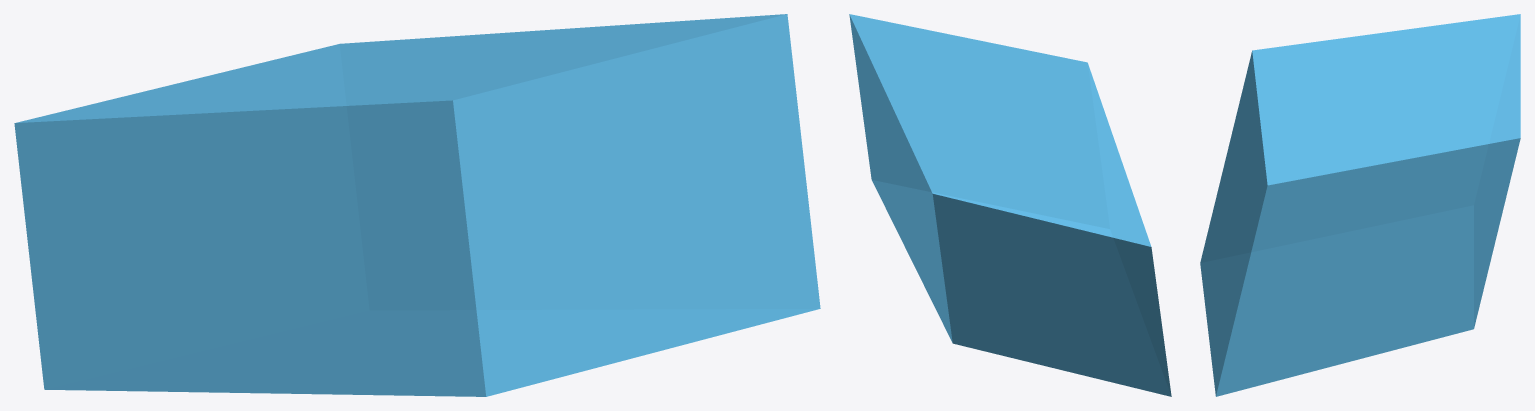
File: Event_420604493_HBrechit_37.fbx
3 renders of one model, left to right at view 1: azimuth 30°, elevation 25°; view 2: azimuth 150°, elevation 25°; view 3: azimuth 270°, elevation 25°, orthographic. The views are drawn at different scales.
Visible parts, largest first — view 1: Model; view 2: Model; view 3: Model.
Part boxes in pixels (x1=…): Model: x1=14, y1=14, x2=820, y2=396; Model: x1=849, y1=14, x2=1171, y2=396; Model: x1=1200, y1=14, x2=1520, y2=396.
Bounding box in the file's own units: 1.02 × 0.5259 × 0.5959.
